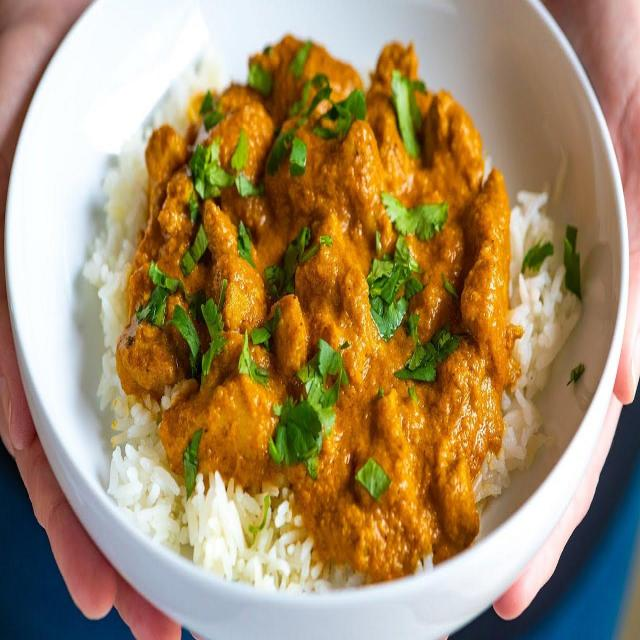chicken: (123, 44, 514, 562)
